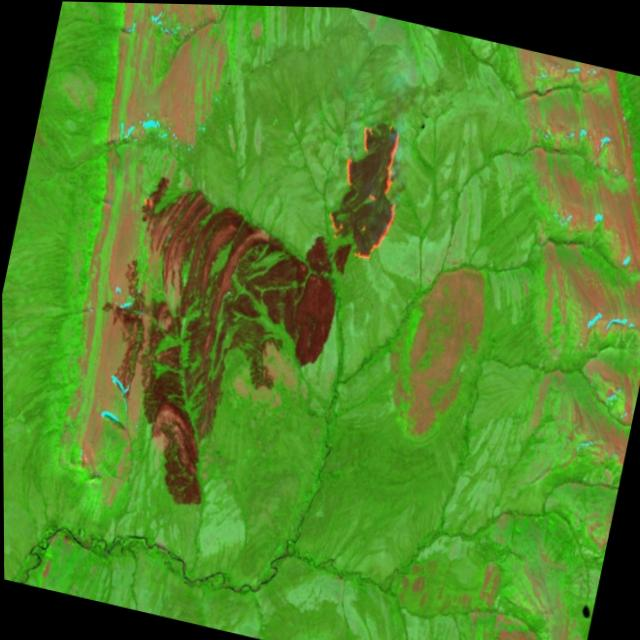fire: (316, 103, 415, 266)
